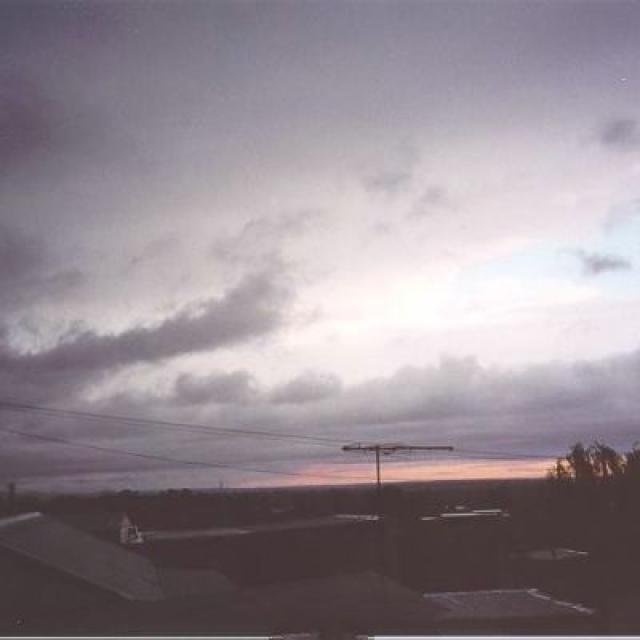St: (2, 48, 640, 414)
